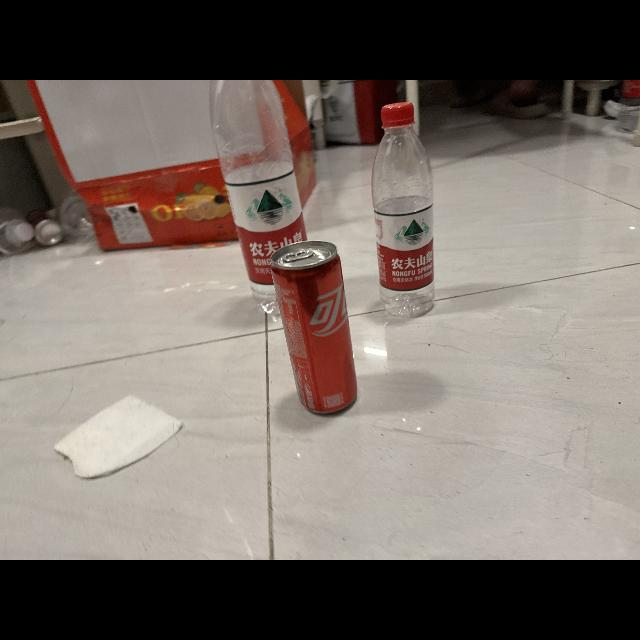Cola: (264, 231, 370, 425)
